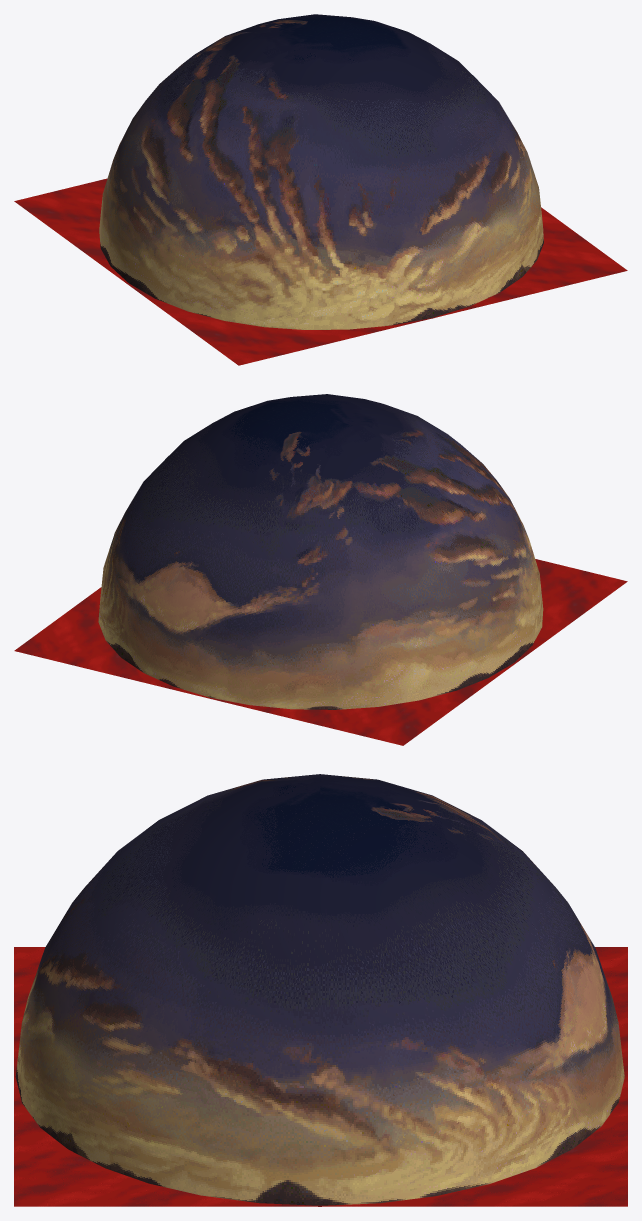
3 renders of one model, top to bottom at view 1: azimuth 30°, elevation 25°; view 2: azimuth 150°, elevation 25°; view 3: azimuth 270°, elevation 25°, orthographic. The views are drawn at different scales.
Parts seen in each view (by area): view 1: Skybox, BloodSea; view 2: Skybox, BloodSea; view 3: Skybox, BloodSea.
Part boxes in pixels (<box>): Skybox: <box>99,14,543,329</box>; BloodSea: <box>14,178,627,365</box>; Skybox: <box>98,394,543,709</box>; BloodSea: <box>14,559,627,745</box>; Skybox: <box>15,774,624,1206</box>; BloodSea: <box>14,947,627,1206</box>.
Bounding box in the file's own units: 354 × 177 × 354.
20 materials, 19 textured.
